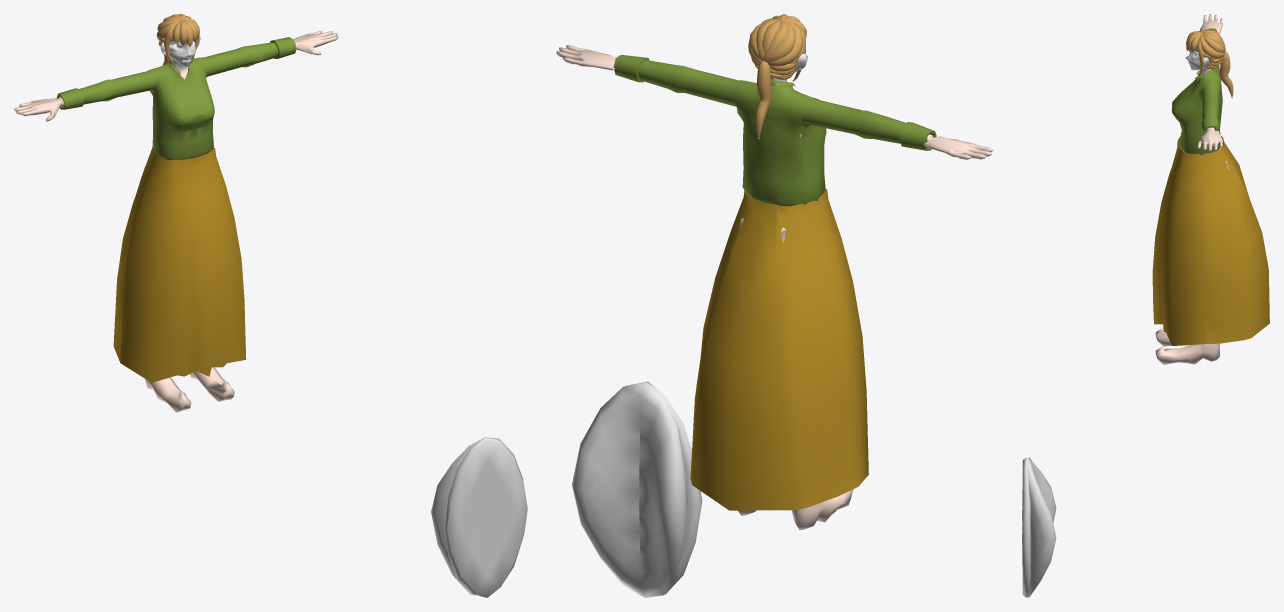
File: audience1.3.fbx
The picture shows the model from 3 angles, left to right: view 1: azimuth 30°, elevation 25°; view 2: azimuth 150°, elevation 25°; view 3: azimuth 270°, elevation 25°; orthographic projection. The views are drawn at different scales.
Visible parts, largest first — view 1: 円.003, 円; view 2: 円.003, 円; view 3: 円.003, 円.
Part boxes in pixels (x1,y1,x2,y2): 円.003: [14, 14, 338, 412]; 円: [431, 437, 527, 597]; 円.003: [556, 14, 993, 530]; 円: [572, 381, 702, 597]; 円.003: [1152, 14, 1269, 364]; 円: [1022, 457, 1056, 597].
Size of the model in its own units: 140 by 184 by 86.13.
